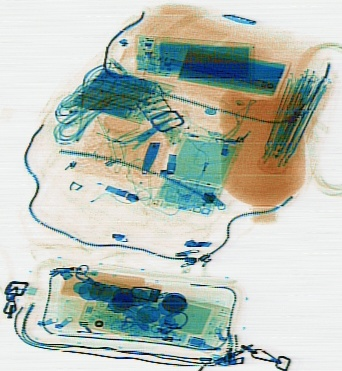powerbank: (73, 65, 168, 122)
scissors: (103, 116, 172, 164)
